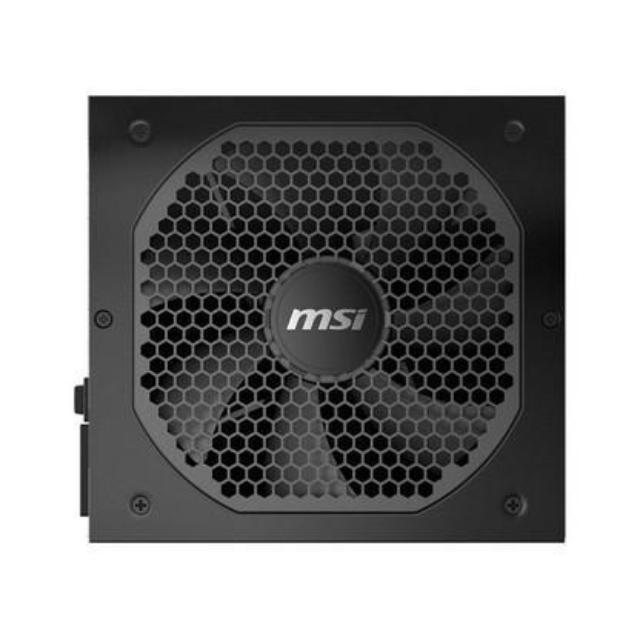PSU: (64, 78, 586, 560)
